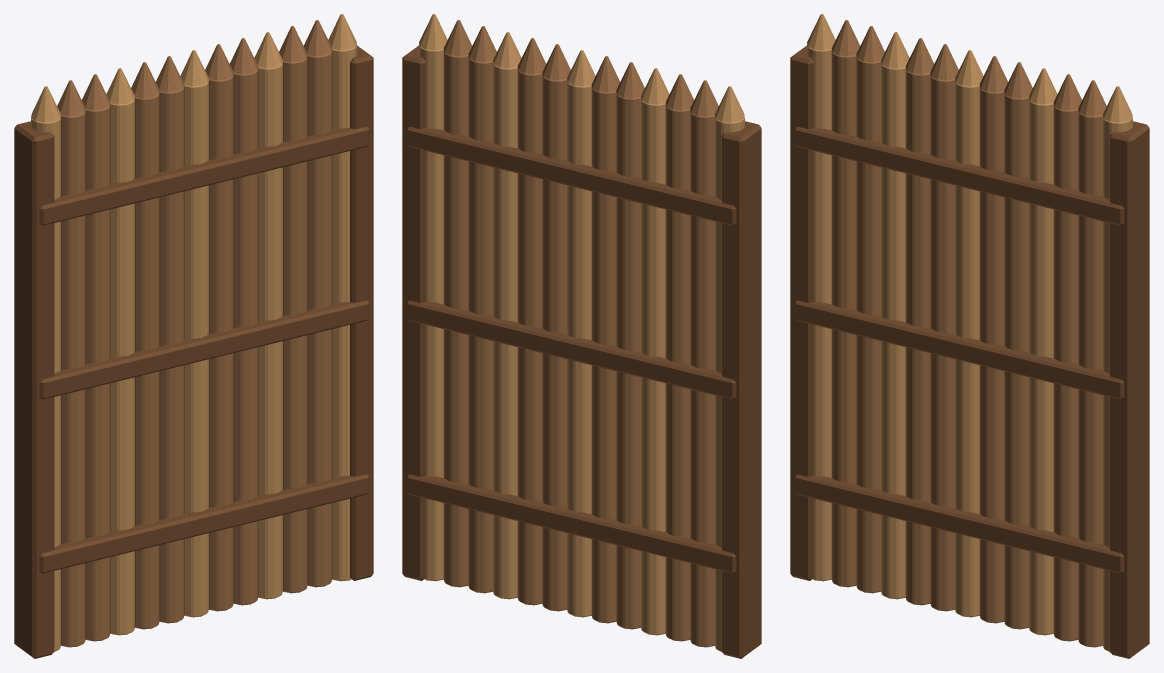
Rendered from LogWall.glb.
3 views of the same model, side by side, from view 1: azimuth 30°, elevation 25°; view 2: azimuth 150°, elevation 25°; view 3: azimuth 330°, elevation 25° (orthographic).
Visible parts, largest first — view 1: StaticVisual; view 2: StaticVisual; view 3: StaticVisual.
Boxes of the visible parts, x1=… form: StaticVisual: x1=14, y1=14, x2=373, y2=658; StaticVisual: x1=402, y1=14, x2=761, y2=658; StaticVisual: x1=790, y1=14, x2=1149, y2=658.
Size of the model in its own units: 6.38 by 10 by 0.78.
